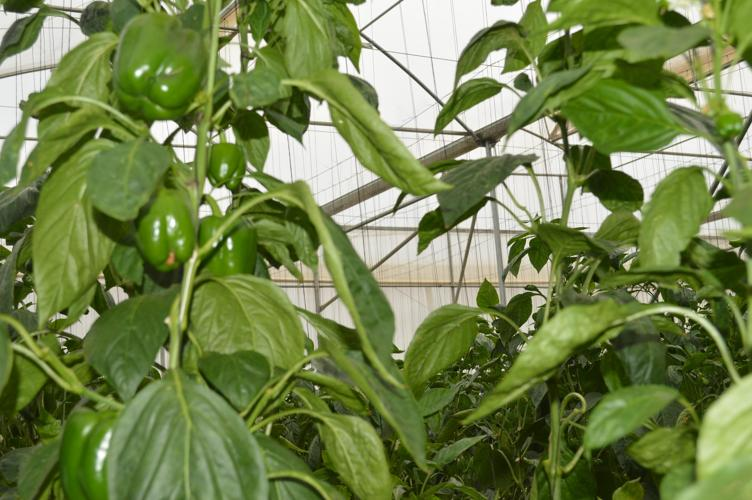BellPepper: (46, 395, 177, 498), (105, 16, 218, 125), (122, 189, 196, 277), (200, 204, 265, 298), (203, 141, 253, 198)
